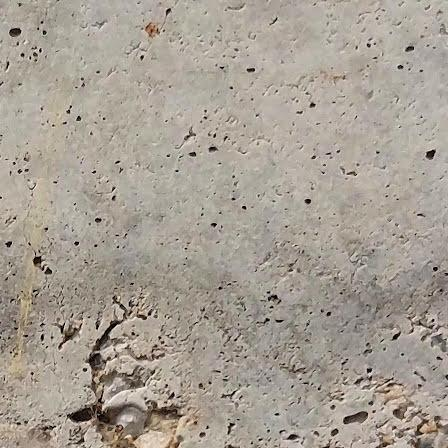spalling: (57, 289, 215, 448), (347, 372, 447, 447)
